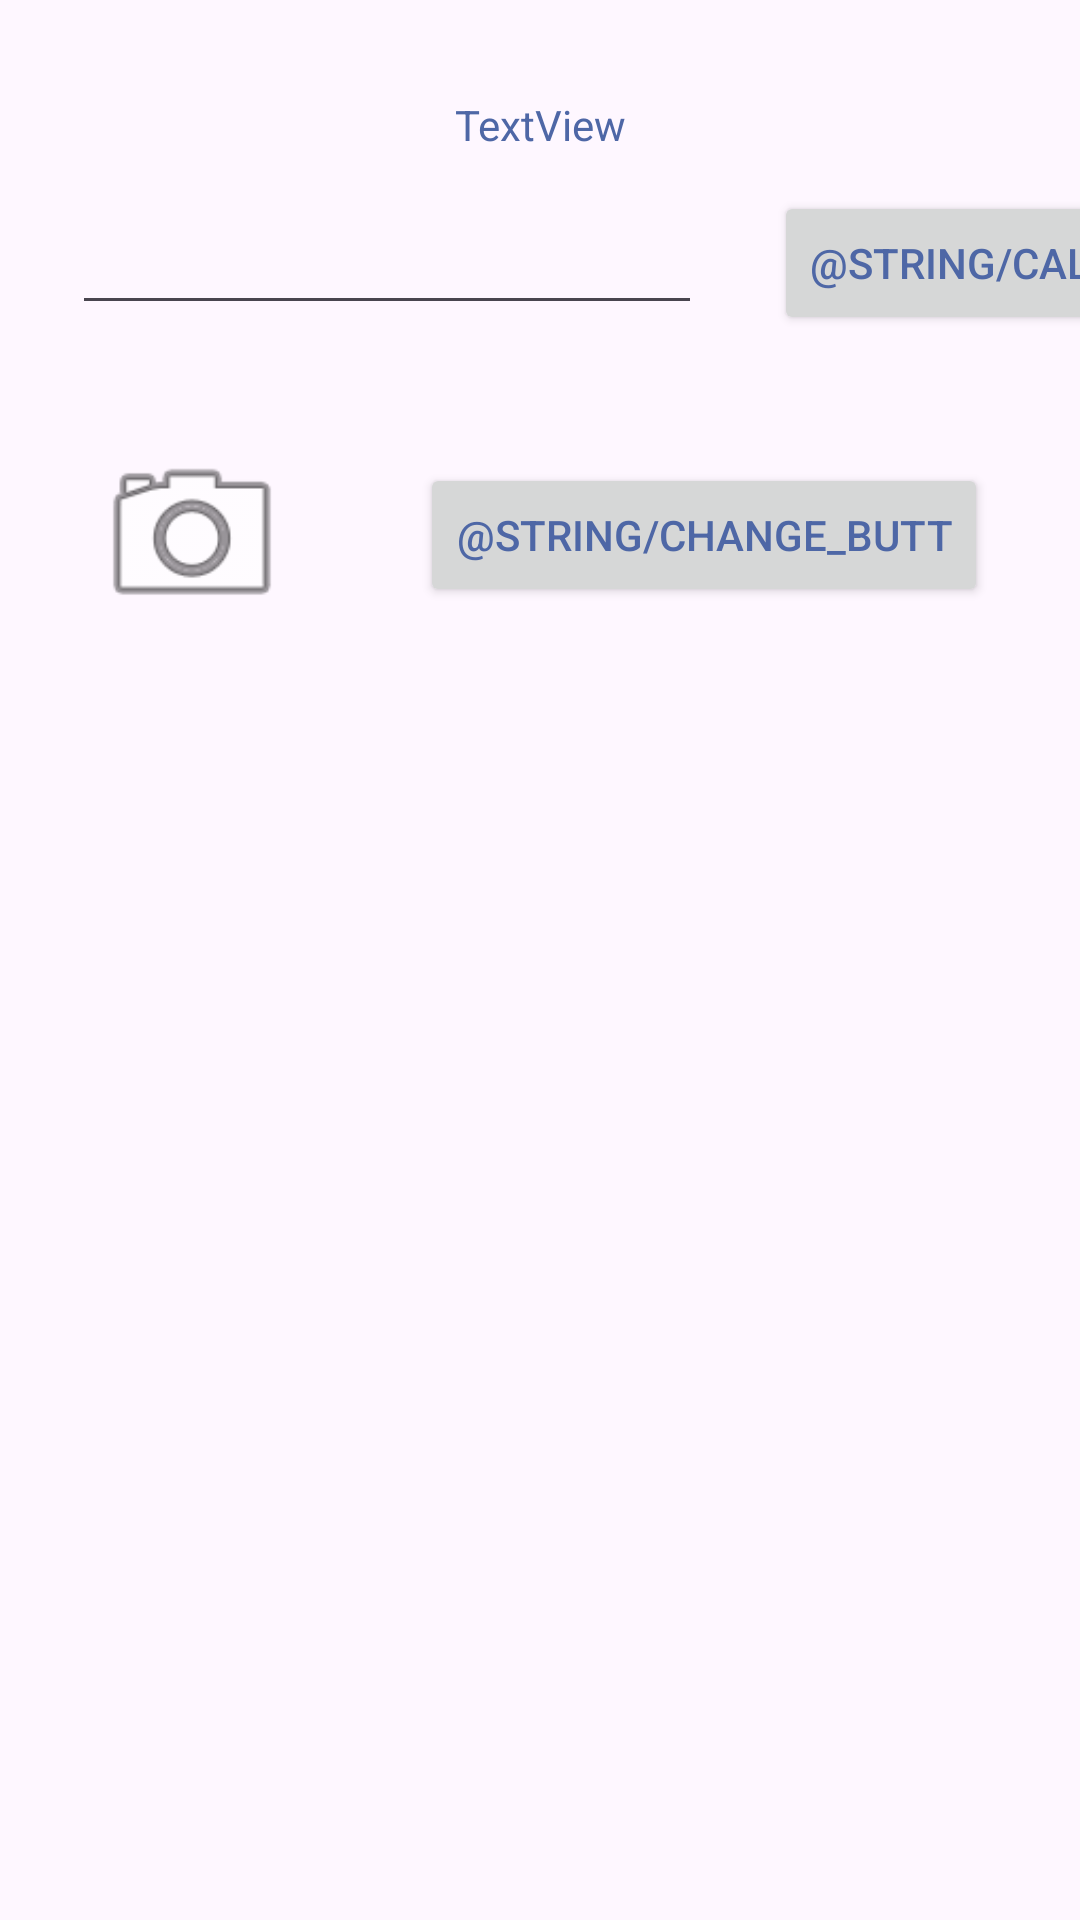

Screen size 1080 x 1920. Icon name, then its box in pixels as BBox(x1, y1, x2, y2):
camera: BBox(113, 469, 271, 595)
